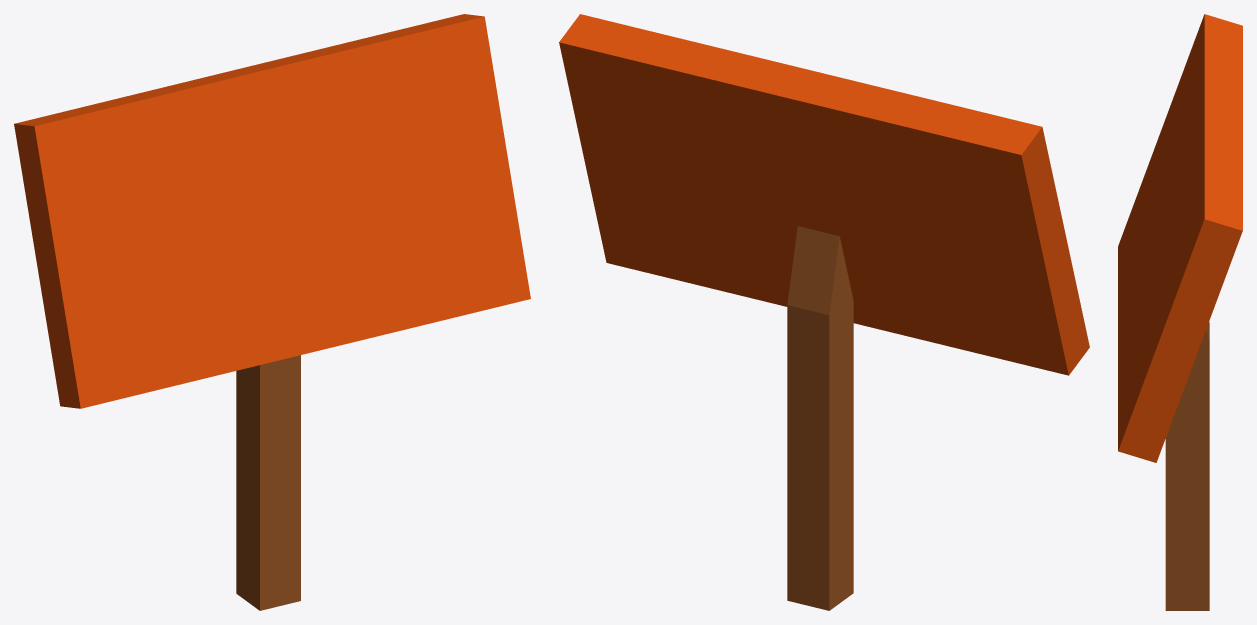
The model's file is Tablet.fbx.
The picture shows the model from 3 angles, left to right: view 1: azimuth 30°, elevation 25°; view 2: azimuth 150°, elevation 25°; view 3: azimuth 270°, elevation 25°; orthographic projection. The views are drawn at different scales.
Visible parts, largest first — view 1: Tablet; view 2: Tablet; view 3: Tablet.
Boxes of the visible parts, x1,y1,x2,y2 form: Tablet: (14,14,530,610); Tablet: (559,14,1089,610); Tablet: (1118,14,1242,610).
Size of the model in its own units: 327 by 360 by 83.88.
